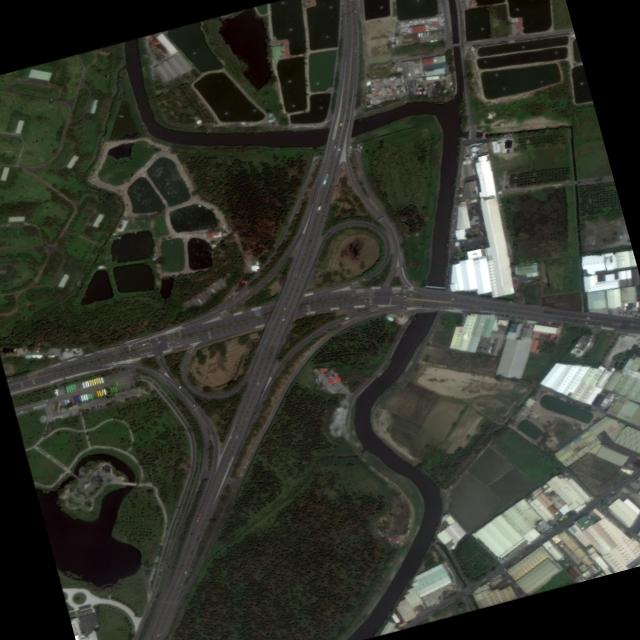large-vehicle: (94, 378, 98, 384), (83, 381, 87, 387), (77, 395, 80, 402), (90, 379, 93, 386), (63, 386, 66, 393), (99, 377, 102, 383), (75, 396, 78, 402), (86, 393, 89, 399), (84, 394, 87, 400), (82, 394, 85, 400), (70, 397, 73, 403), (63, 399, 66, 405), (102, 389, 105, 395), (88, 380, 91, 386), (81, 382, 84, 388), (72, 384, 75, 390), (69, 384, 72, 390), (67, 385, 70, 391), (65, 386, 68, 392), (111, 386, 114, 392), (97, 378, 100, 383), (115, 380, 118, 385), (113, 386, 116, 391), (109, 386, 111, 393), (89, 393, 91, 399), (80, 395, 82, 401), (98, 390, 100, 396), (86, 381, 88, 387), (96, 391, 98, 396), (73, 397, 75, 402), (93, 379, 95, 384), (101, 390, 102, 395)
storage-tank: (470, 145, 478, 152)
